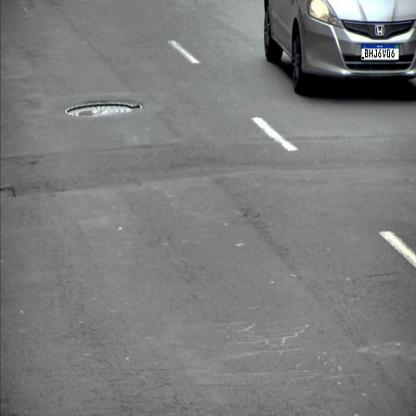PlacaM: (361, 44, 399, 60)
